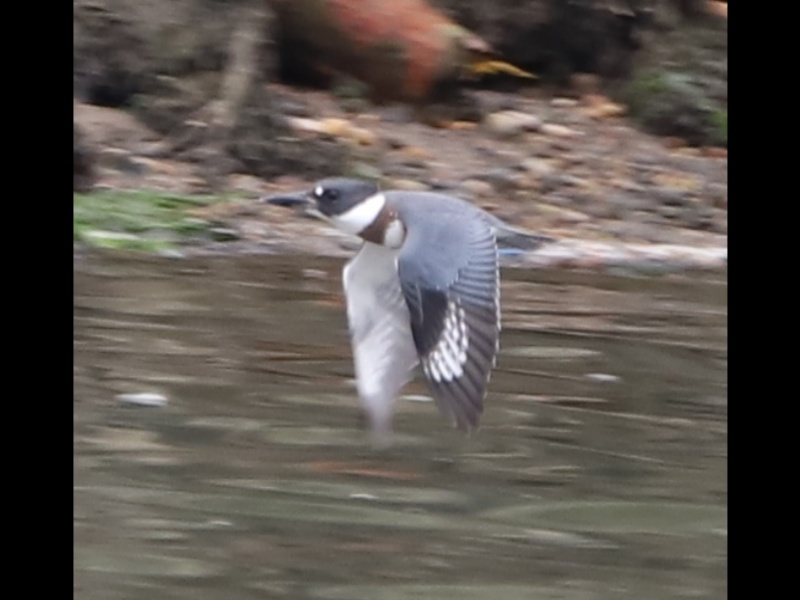kingfisher: (255, 177, 564, 437)
